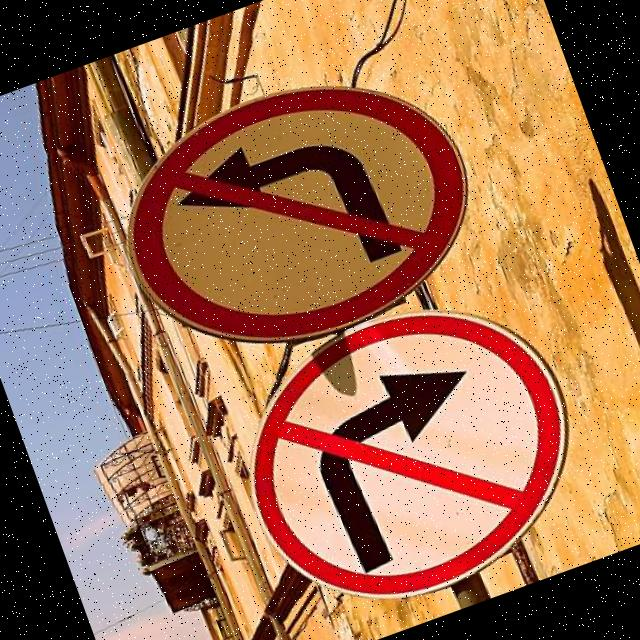do_not_turn_right: (197, 260, 626, 640)
